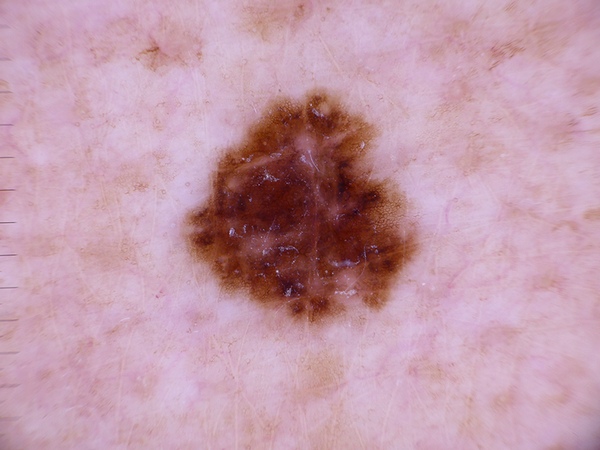Detected Lesion: (179, 90, 426, 329)
